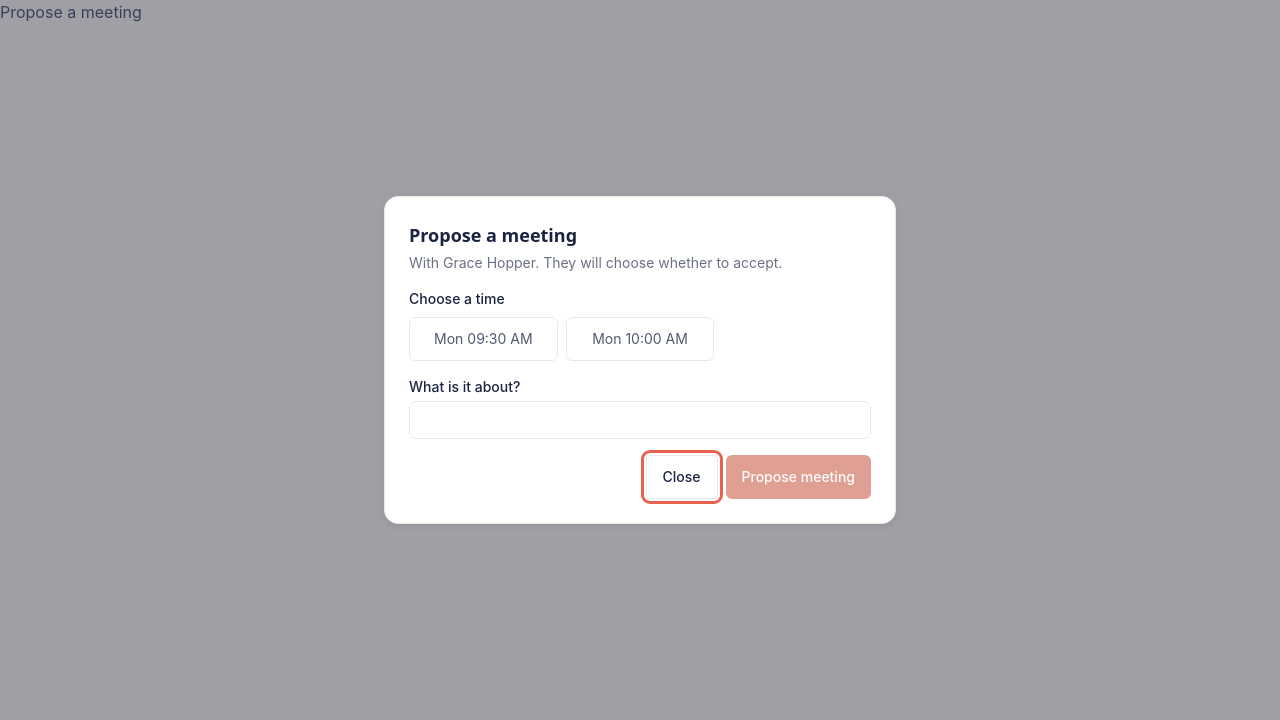
Test case: the scheduling dialog › T078 — keeps the confirmation DISABLED until both a slot and a topic are present (FR-629)
This screenshot has width=1280, height=720.
Expected: the button "Propose meeting" is disabled, [726, 455, 871, 499]
A slot but no topic: still disabled.
Click the radio button labelled "Mon 09:30 AM" at (483, 339), box [409, 317, 558, 361]
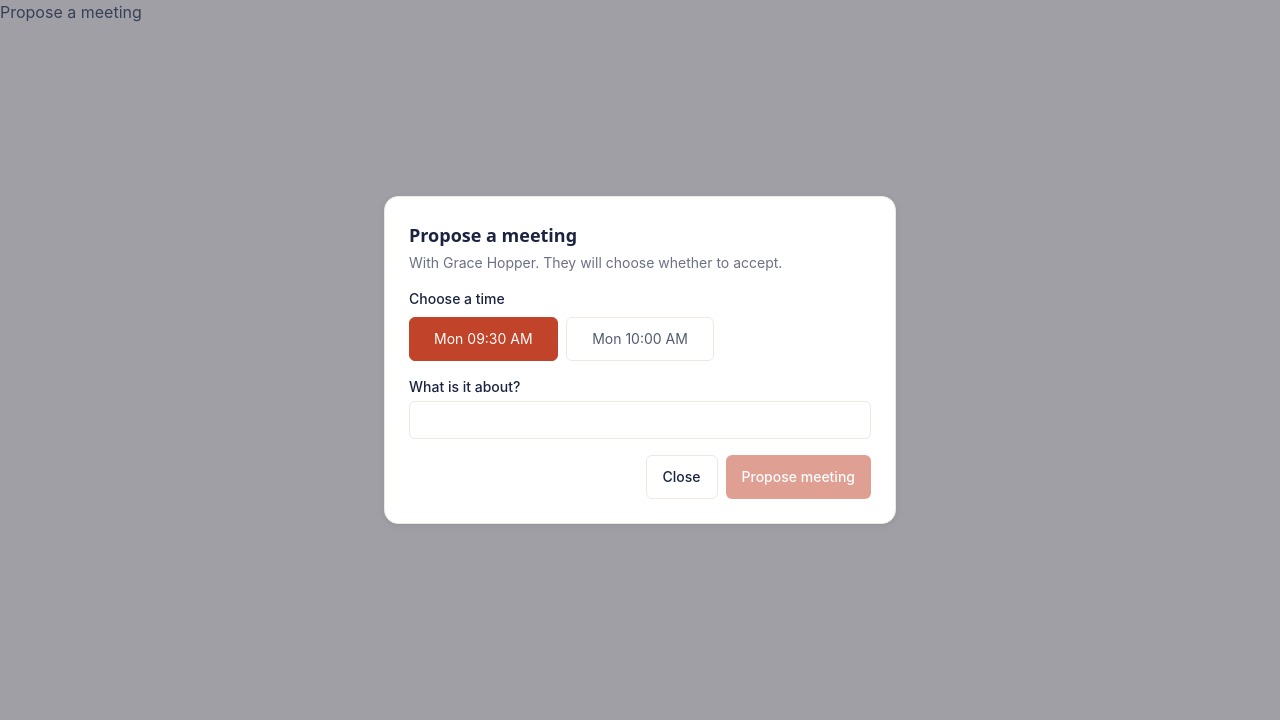
Expected: the button "Propose meeting" is disabled, [726, 455, 871, 499]
A topic as well: enabled.
Type "Design systems" into the field labelled "What is it about?" at (640, 420), box [409, 401, 871, 439]
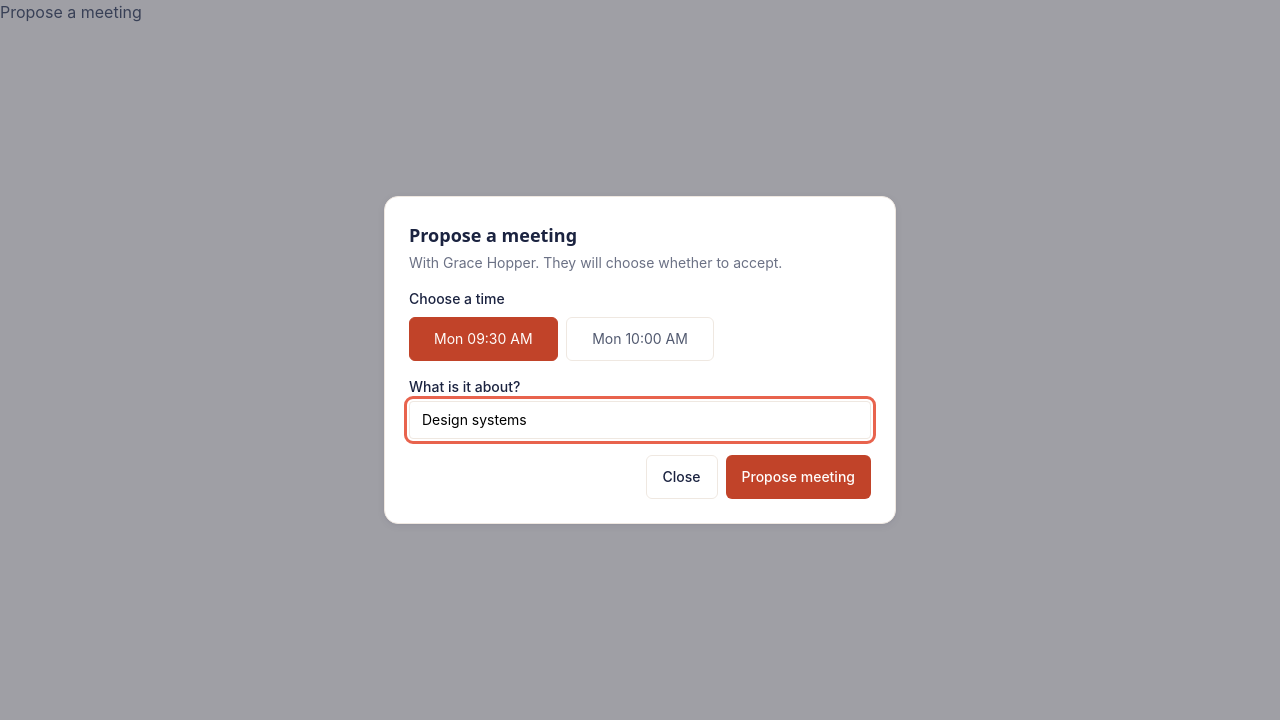
Expected: the button "Propose meeting" is enabled, [726, 455, 871, 499]
